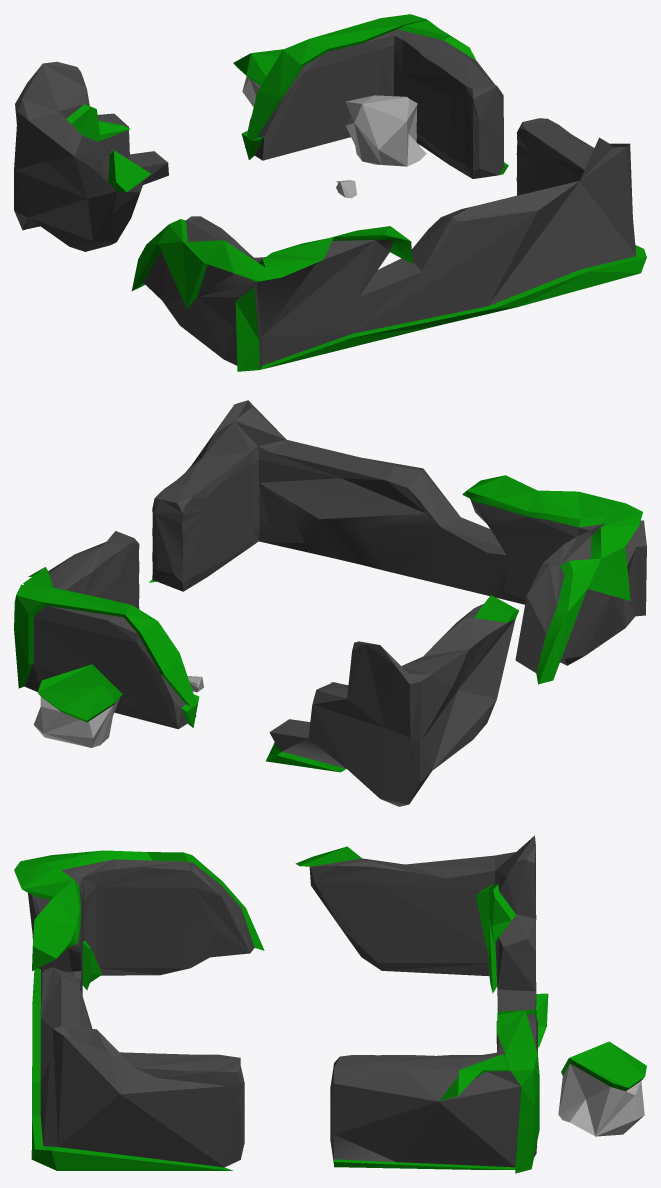
Rendered from Ruins.fbx.
3 views of the same model, one above another, from view 1: azimuth 30°, elevation 25°; view 2: azimuth 150°, elevation 25°; view 3: azimuth 270°, elevation 25° (orthographic). The views are drawn at different scales.
Parts seen in each view (by area): view 1: ruinWalls, Rock, RockMoss; view 2: ruinWalls, RockMoss; view 3: ruinWalls, RockMoss.
Boxes of the visible parts, left/top/right/bottom form: ruinWalls: left=14, top=14, right=646, bottom=371; Rock: left=345, top=95, right=426, bottom=166; RockMoss: left=233, top=49, right=283, bottom=106; ruinWalls: left=14, top=400, right=646, bottom=806; RockMoss: left=33, top=664, right=122, bottom=747; ruinWalls: left=14, top=835, right=548, bottom=1173; RockMoss: left=558, top=1041, right=646, bottom=1136.
Size of the model in its own units: 2775 by 954 by 3197.
